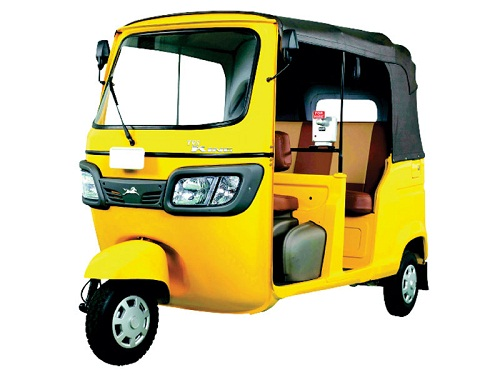auto: (73, 7, 438, 375)
